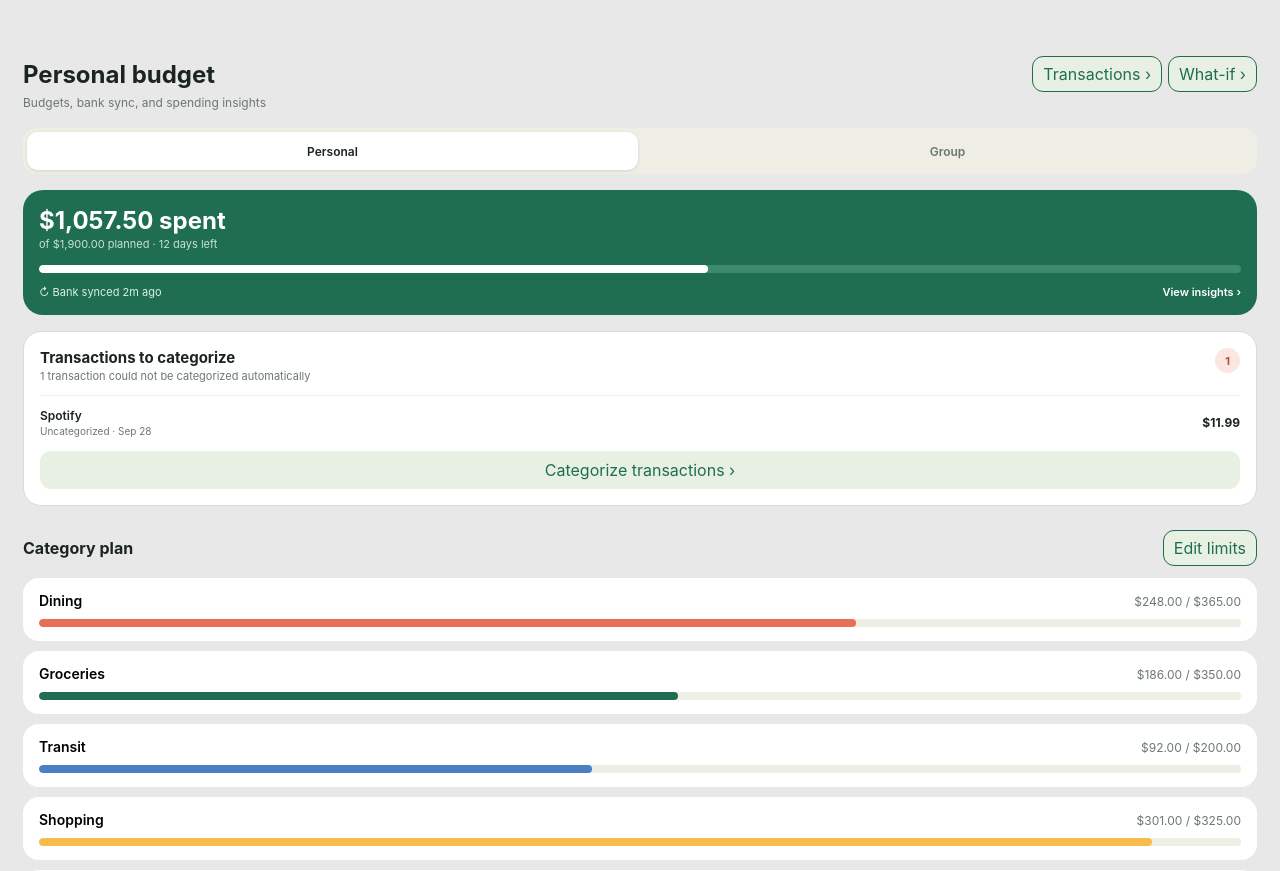
Test: budget drill-downs › says so when a category has no transactions
Click the button with aria-label "Transit transactions": click(62, 746) [23, 724, 1257, 787]
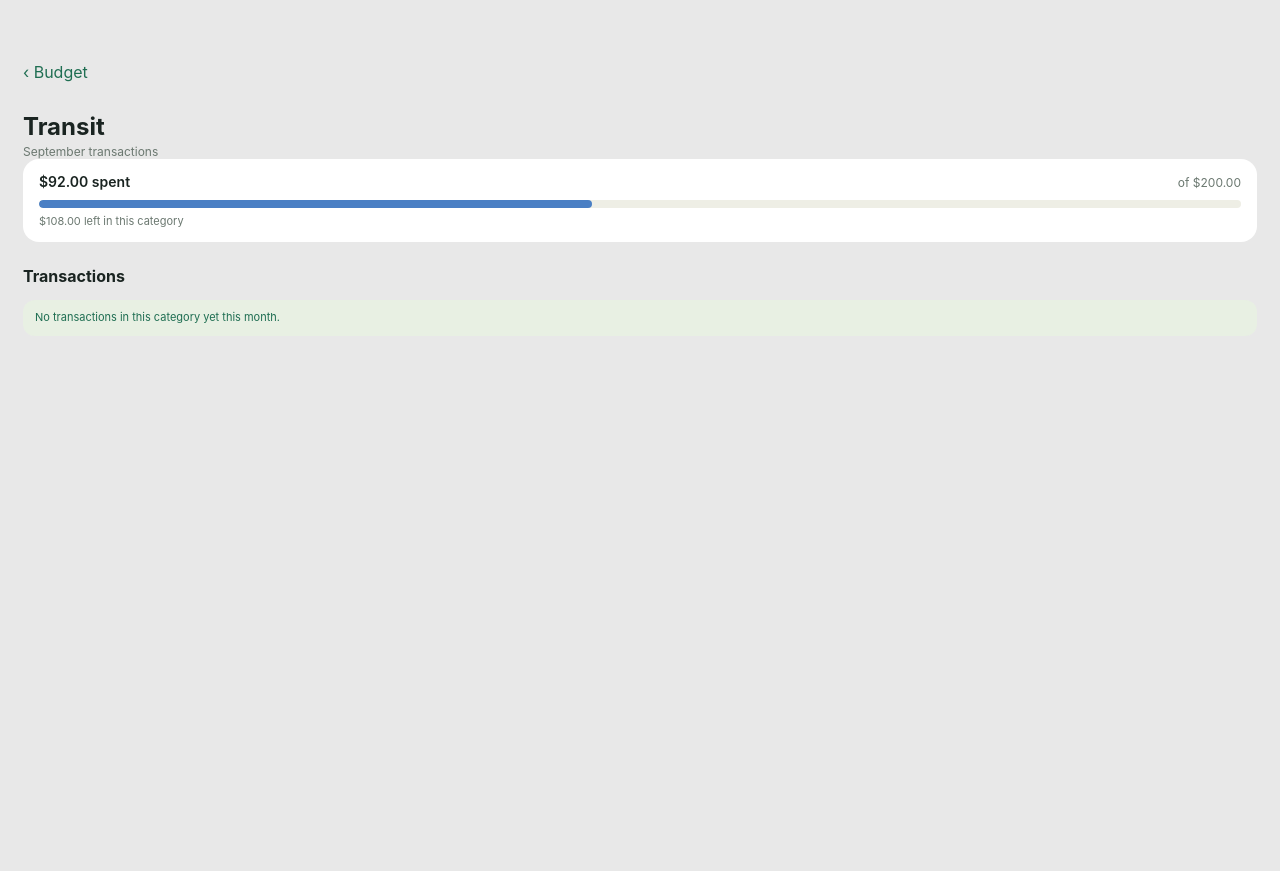
Expected: the text "No transactions in this category yet this month." is shown, [23, 300, 1257, 336]
